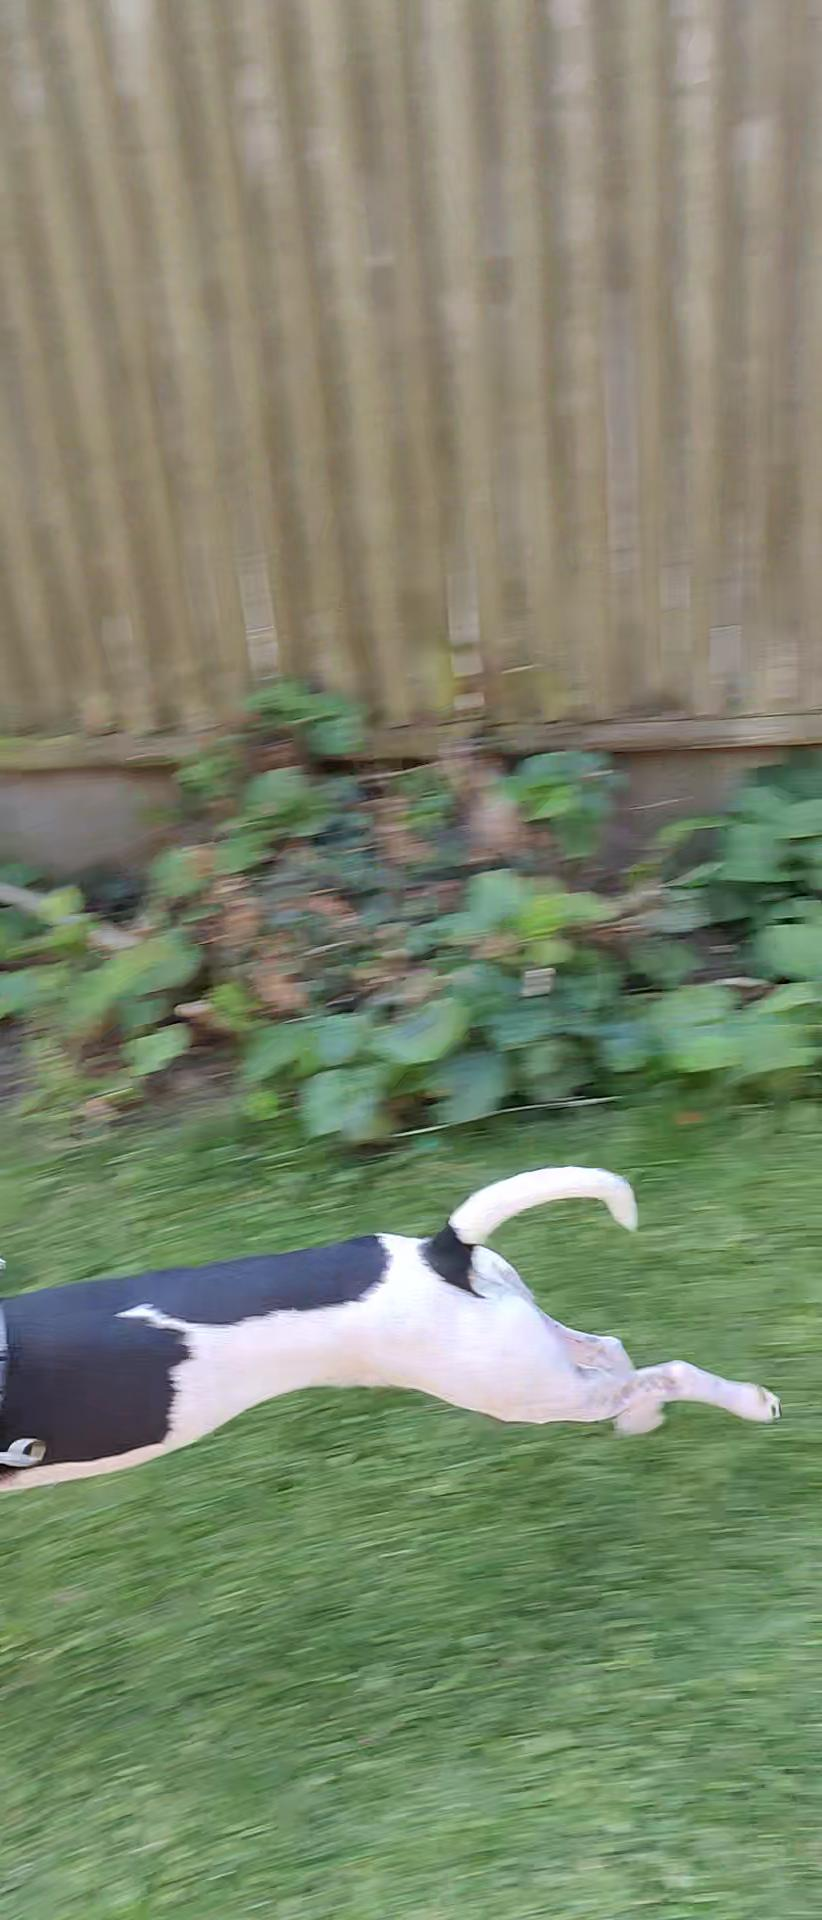Dog: (0, 1142, 794, 1506)
